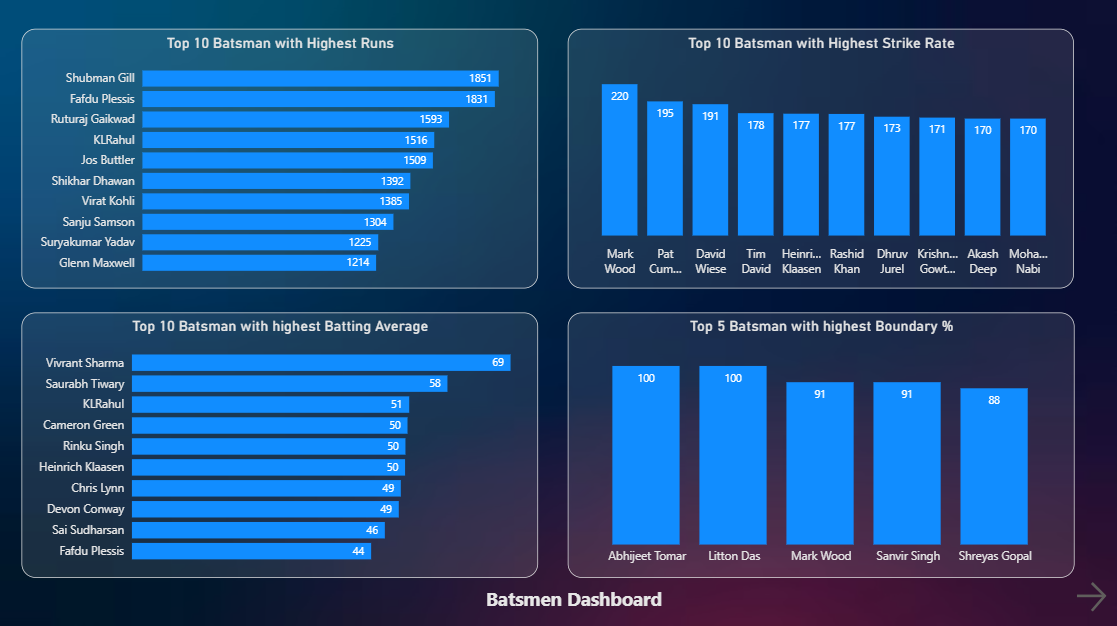

This screenshot's page, from the dashboard's own definition file:
{"tool":"powerbi","page":{"name":"Batsmen","canvas":[1280,720],"ordinal":0},"visuals":[{"type":"clusteredBarChart","title":"Top 10 Batsman with Highest Runs","fields":{"Category":["fact_bating_summary.batsmans_name"],"Y":["Key_Measures.Total Runs"]},"box":[25.7,32.9,590,297.1],"z":0},{"type":"clusteredBarChart","title":"Top 10 Batsman with highest Batting Average","fields":{"Category":["fact_bating_summary.batsmans_name"],"Y":["Key_Measures.Batting Avg"]},"box":[25.7,357.1,590,302.9],"z":1000},{"type":"columnChart","title":"Top 10 Batsman with Highest Strike Rate","fields":{"Category":["fact_bating_summary.batsmans_name"],"Y":["Key_Measures.Strike rate"]},"box":[650,32.9,578.6,297.1],"z":2000},{"type":"columnChart","title":"Top 5 Batsman with highest Boundary %","fields":{"Y":["Key_Measures.Boundary %"],"Category":["fact_bating_summary.batsmans_name"]},"box":[650,357,579,303],"z":3000},{"type":"actionButton","title":"Bowlers","box":[1225.7,660,54.3,44.3],"z":4000},{"type":"textbox","box":[551.4,664.3,222.9,40],"z":5000}]}

Visuals, with their boxes in screenshot pixels (x1, y1, x2, y2), scaled from the page's 1280x720 canvas onto the 1117x626 screenshot:
"Top 10 Batsman with Highest Runs" clusteredBarChart: box=[22, 29, 537, 287]
"Top 10 Batsman with highest Batting Average" clusteredBarChart: box=[22, 310, 537, 574]
"Top 10 Batsman with Highest Strike Rate" columnChart: box=[567, 29, 1072, 287]
"Top 5 Batsman with highest Boundary %" columnChart: box=[567, 310, 1072, 574]
"Bowlers" actionButton: box=[1070, 574, 1116, 612]
textbox: box=[481, 578, 676, 612]
